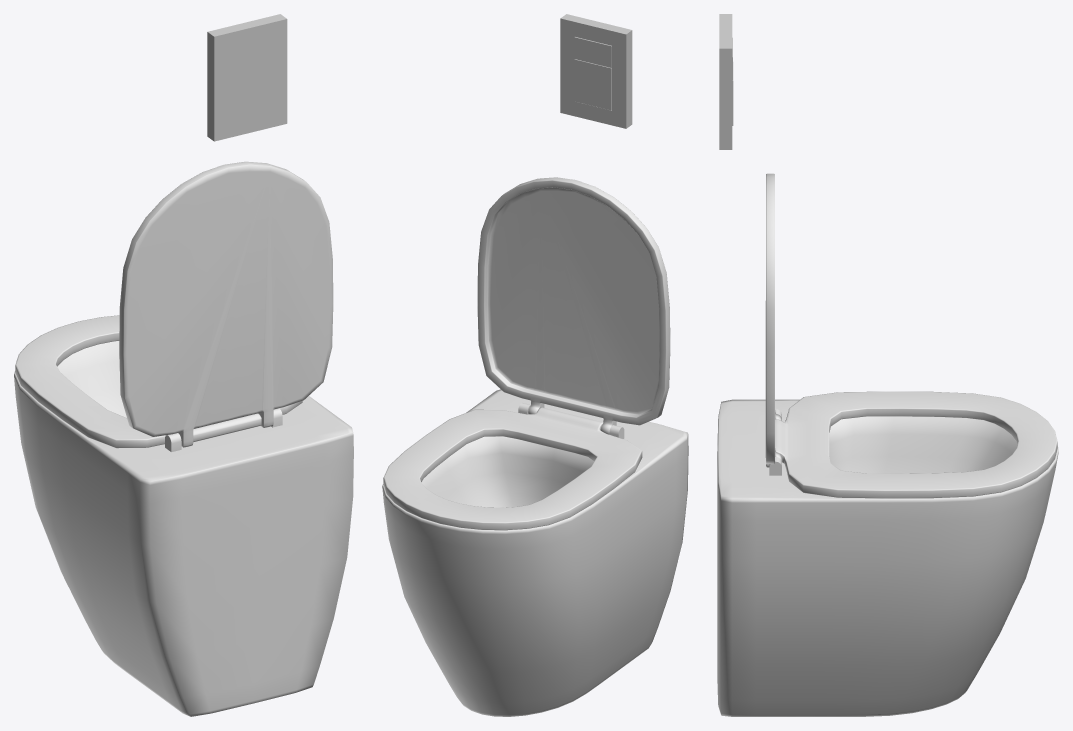
File: Toilet04.fbx
The picture shows the model from 3 angles, left to right: view 1: azimuth 30°, elevation 25°; view 2: azimuth 150°, elevation 25°; view 3: azimuth 270°, elevation 25°; orthographic projection. The views are drawn at different scales.
Parts seen in each view (by area): view 1: Toilet04, ToieltCover04, ToiletFlushButtonPanel04, ToiletSeat04; view 2: Toilet04, ToieltCover04, ToiletSeat04, ToiletFlushButtonPanel04, ToiletFlushButton04; view 3: Toilet04, ToiletSeat04, ToieltCover04, ToiletFlushButtonPanel04.
Boxes of the visible parts, bbox=[...] form: Toilet04: bbox=[14, 341, 353, 716]; ToieltCover04: bbox=[119, 161, 333, 447]; ToiletFlushButtonPanel04: bbox=[207, 14, 287, 141]; ToiletSeat04: bbox=[15, 315, 302, 448]; Toilet04: bbox=[382, 389, 688, 716]; ToieltCover04: bbox=[477, 177, 670, 434]; ToiletSeat04: bbox=[383, 407, 642, 530]; ToiletFlushButtonPanel04: bbox=[560, 14, 632, 128]; ToiletFlushButton04: bbox=[574, 59, 611, 110]; Toilet04: bbox=[717, 399, 1058, 716]; ToiletSeat04: bbox=[775, 391, 1057, 498]; ToieltCover04: bbox=[765, 173, 781, 467]; ToiletFlushButtonPanel04: bbox=[719, 14, 732, 149].
Bounding box in the file's own units: 34.71 × 105 × 49.82.
